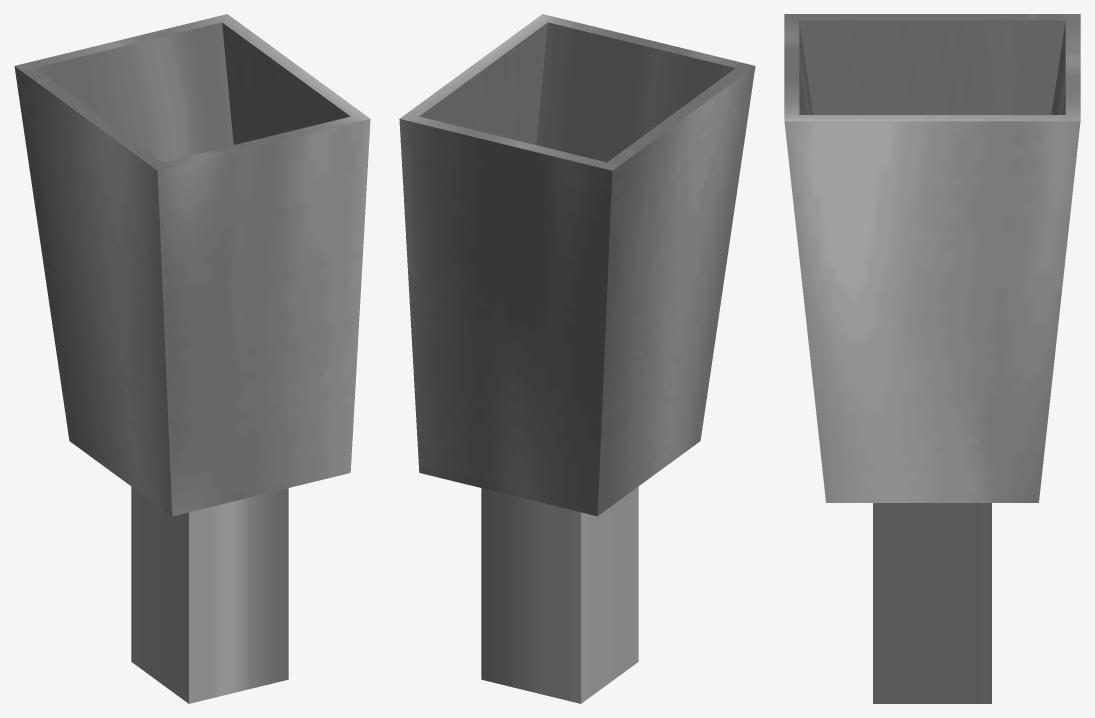
File: basurero.fbx
3 views of the same model, side by side, from view 1: azimuth 30°, elevation 25°; view 2: azimuth 150°, elevation 25°; view 3: azimuth 270°, elevation 25° (orthographic). The views are drawn at different scales.
Visible parts, largest first — view 1: Cube.059; view 2: Cube.059; view 3: Cube.059.
Part boxes in pixels (x1,y1,x2,y2): Cube.059: [14, 14, 370, 703]; Cube.059: [399, 14, 755, 703]; Cube.059: [784, 14, 1080, 703].
Bounding box in the file's own units: 64.69 × 169 × 75.26.
